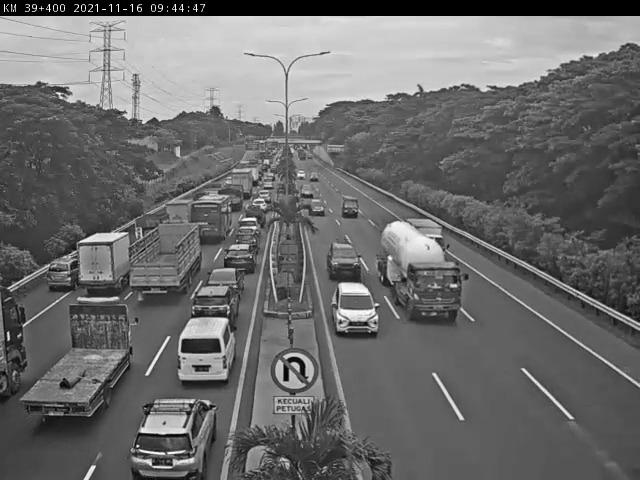big bus: (188, 194, 232, 241)
car: (128, 396, 216, 480), (174, 319, 234, 382), (329, 281, 380, 337), (188, 287, 236, 335), (324, 240, 362, 278), (44, 256, 83, 289), (205, 266, 246, 297), (223, 245, 255, 274), (232, 231, 259, 251), (236, 216, 261, 237)
small truck: (77, 233, 130, 298), (407, 217, 447, 257), (163, 197, 196, 232), (130, 210, 168, 240)
truck-l-: (128, 223, 202, 302)
truck-m-: (22, 297, 142, 421)
truck-xl-: (376, 224, 468, 320)
